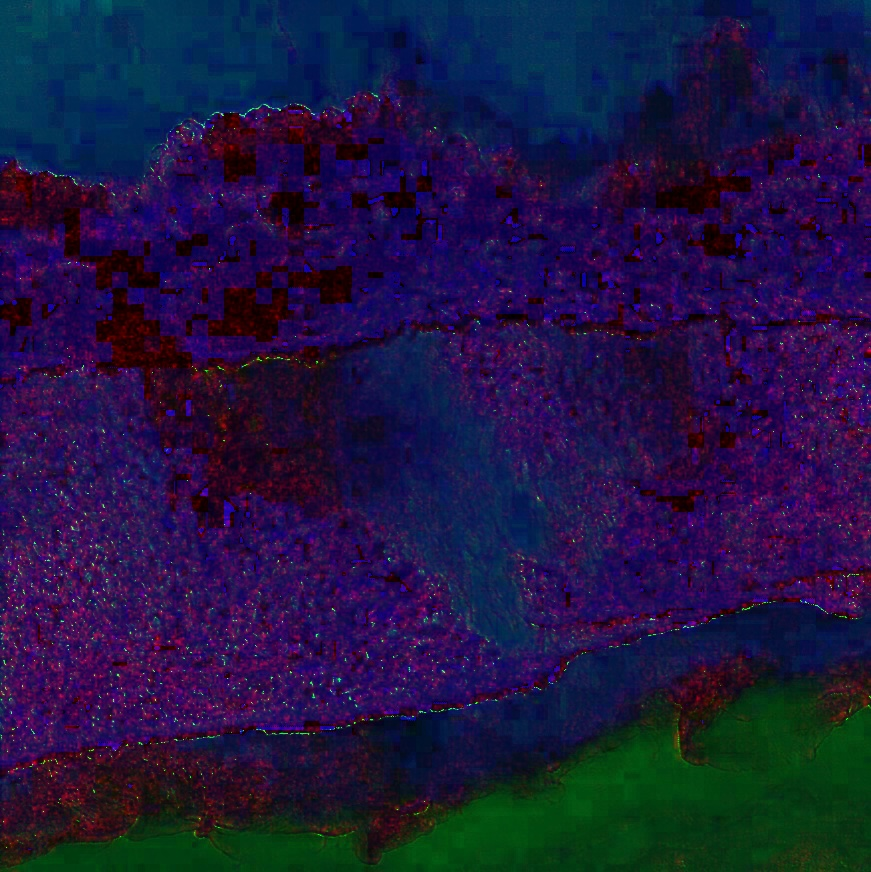rip_current: (234, 218, 652, 706)
